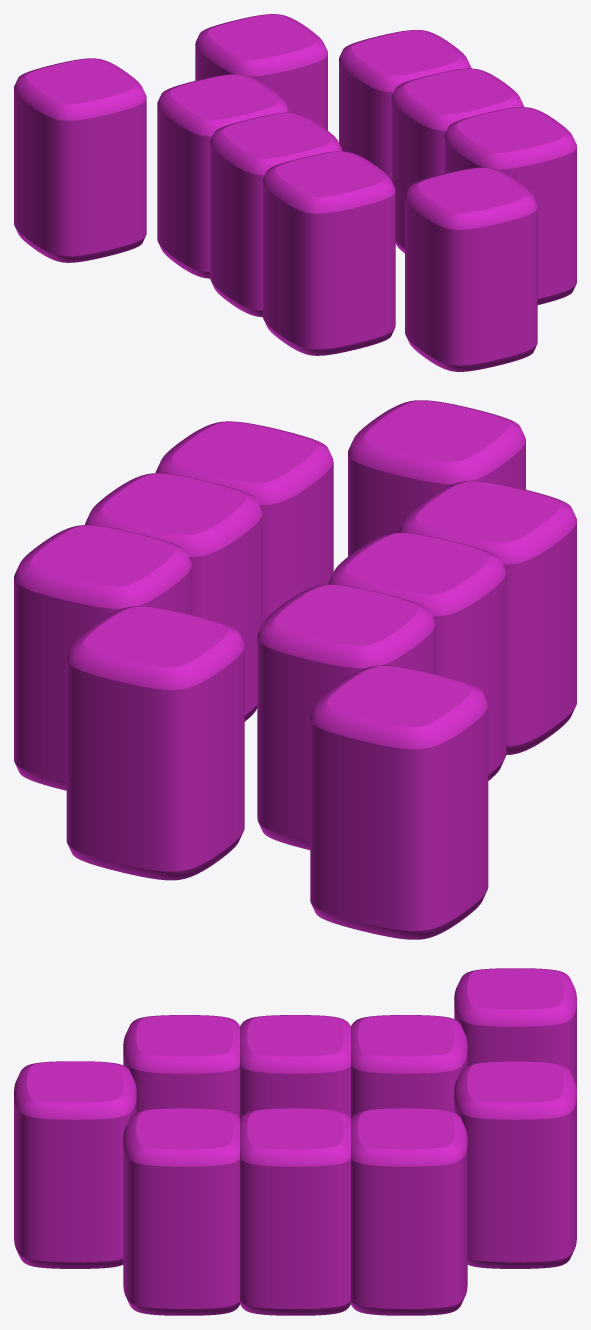
Rendered from Letter_q_Small.fbx.
3 views of the same model, one above another, from view 1: azimuth 30°, elevation 25°; view 2: azimuth 150°, elevation 25°; view 3: azimuth 270°, elevation 25° (orthographic). The views are drawn at different scales.
Parts seen in each view (by area): view 1: Letter_q; view 2: Letter_q; view 3: Letter_q.
Boxes of the visible parts, x1,y1,x2,y2 form: Letter_q: (14,14,576,371); Letter_q: (14,400,576,939); Letter_q: (14,968,576,1315).
Size of the model in its own units: 0.3465 by 0.14 by 0.43.
